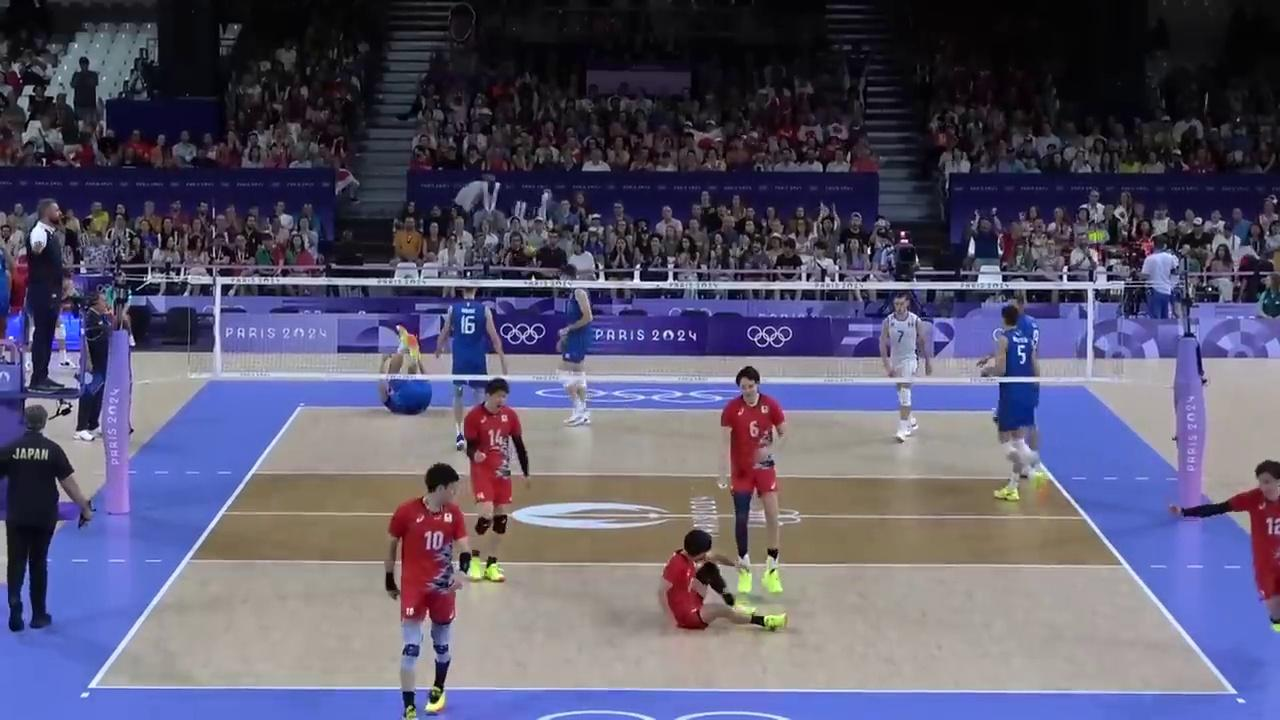ball: (522, 244, 537, 257)
